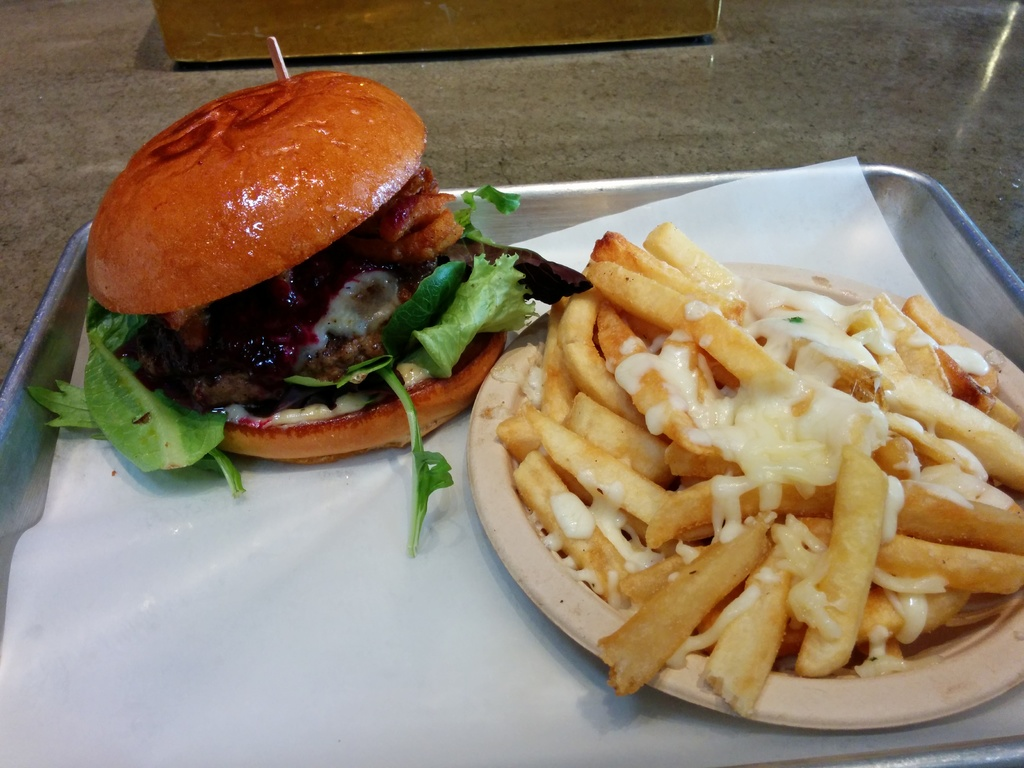French fries: (474, 226, 1008, 717)
